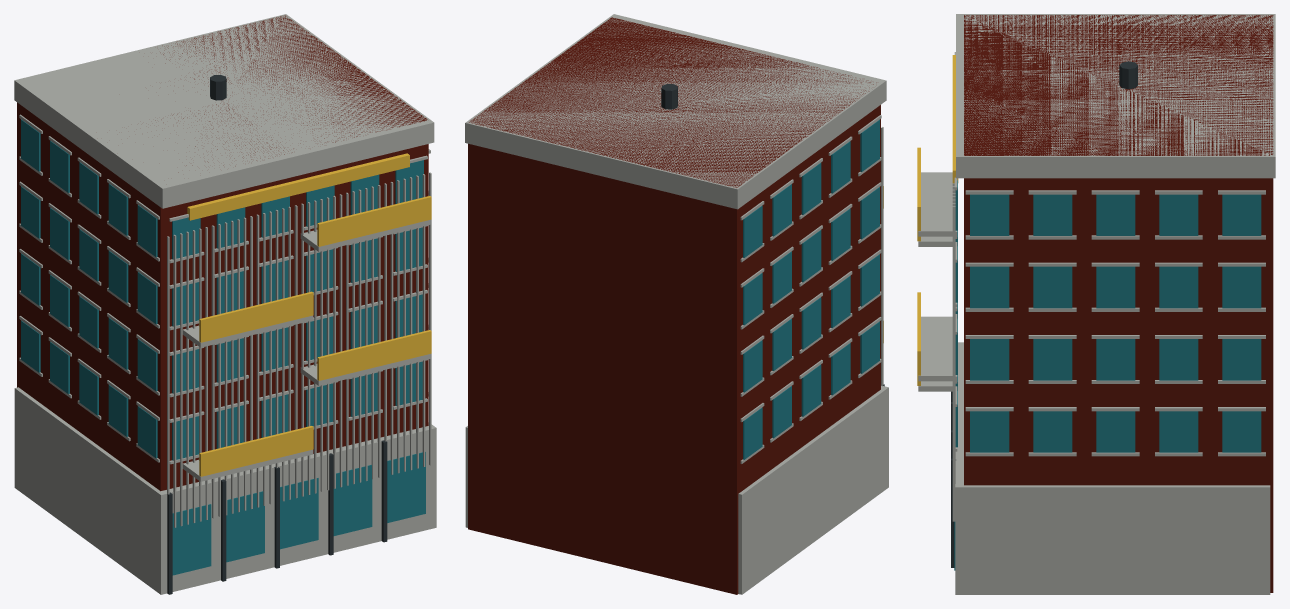
Rendered from JHB_MidRise02_LOD1.fbx.
3 views of the same model, side by side, from view 1: azimuth 30°, elevation 25°; view 2: azimuth 150°, elevation 25°; view 3: azimuth 270°, elevation 25° (orthographic). The views are drawn at different scales.
Parts seen in each view (by area): view 1: JHB_MidRise02_LOD1_Concrete, JHB_MidRise02_LOD1_FacadeAtlas, JHB_MidRise02_LOD1_TealGlass, JHB_MidRise02_LOD1_Accent, JHB_MidRise02_LOD1_DarkMetal, JHB_MidRise02_LOD1_BlankSignBand; view 2: JHB_MidRise02_LOD1_FacadeAtlas, JHB_MidRise02_LOD1_Concrete, JHB_MidRise02_LOD1_TealGlass; view 3: JHB_MidRise02_LOD1_FacadeAtlas, JHB_MidRise02_LOD1_Concrete, JHB_MidRise02_LOD1_TealGlass, JHB_MidRise02_LOD1_DarkMetal, JHB_MidRise02_LOD1_Accent, JHB_MidRise02_LOD1_BlankSignBand.
Boxes of the visible parts, x1,y1,x2,y2 form: JHB_MidRise02_LOD1_Concrete: [14, 14, 436, 594]; JHB_MidRise02_LOD1_FacadeAtlas: [17, 15, 428, 491]; JHB_MidRise02_LOD1_TealGlass: [21, 119, 425, 575]; JHB_MidRise02_LOD1_Accent: [199, 196, 431, 476]; JHB_MidRise02_LOD1_DarkMetal: [167, 74, 387, 594]; JHB_MidRise02_LOD1_BlankSignBand: [187, 153, 409, 220]; JHB_MidRise02_LOD1_FacadeAtlas: [468, 17, 880, 594]; JHB_MidRise02_LOD1_Concrete: [465, 14, 888, 594]; JHB_MidRise02_LOD1_TealGlass: [743, 119, 879, 459]; JHB_MidRise02_LOD1_FacadeAtlas: [964, 15, 1273, 592]; JHB_MidRise02_LOD1_Concrete: [918, 14, 1275, 594]; JHB_MidRise02_LOD1_TealGlass: [954, 180, 1261, 570]; JHB_MidRise02_LOD1_DarkMetal: [951, 61, 1137, 567]; JHB_MidRise02_LOD1_Accent: [917, 147, 920, 385]; JHB_MidRise02_LOD1_BlankSignBand: [952, 55, 958, 183].
Size of the model in its own units: 9.25 by 13.6 by 9.66.
Materials: 6 (1 with a texture image).
